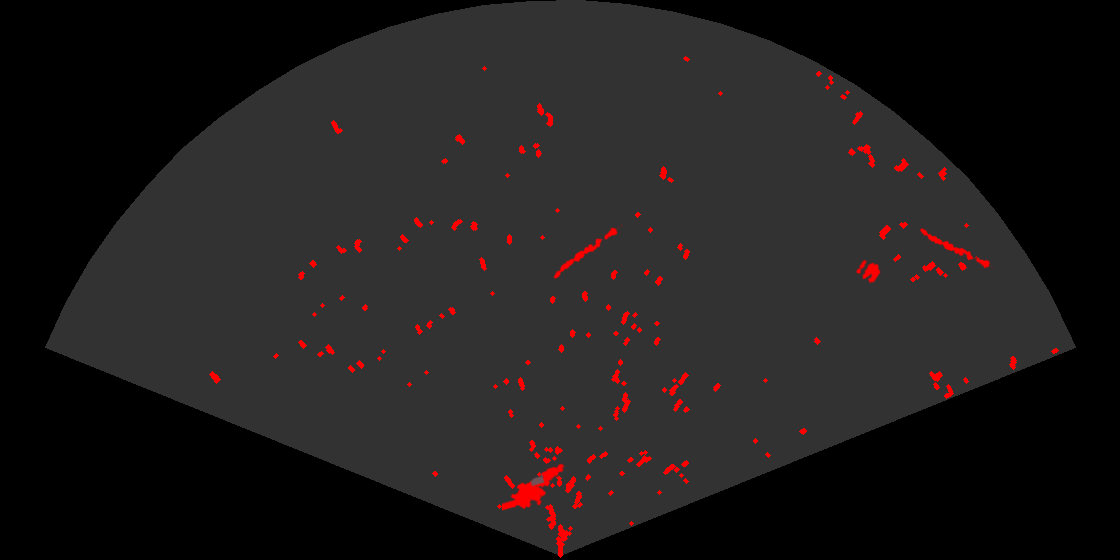ball: (854, 258, 882, 285)
chain: (552, 222, 623, 280), (910, 224, 994, 270)
frogman: (502, 462, 566, 512)
